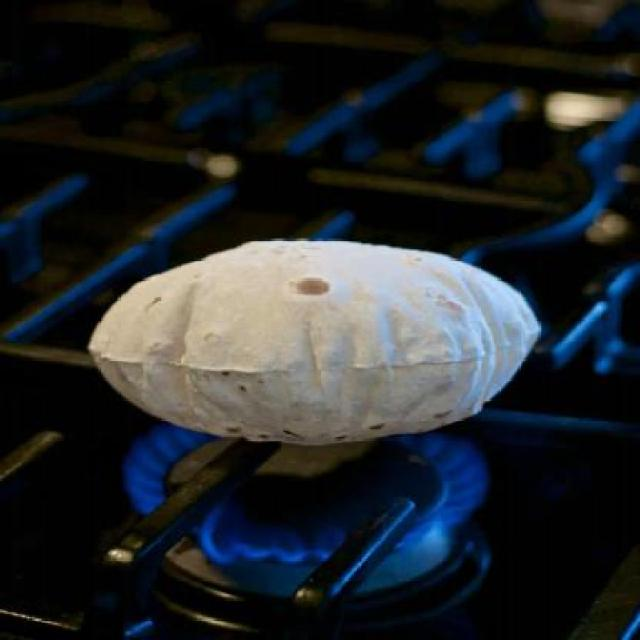chapati: (89, 239, 542, 443)
